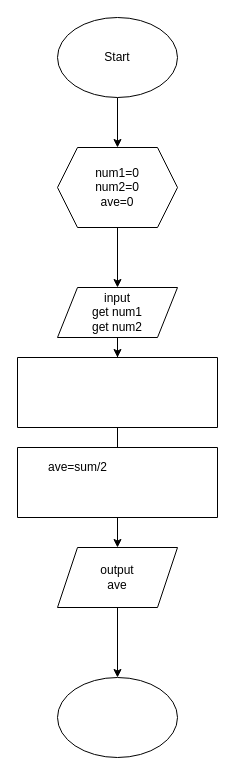
Some shapes in this 235 by 775 pixel diagram are drawn without their labels. Each missing label, with the box of its shape:
end: (56, 676, 178, 758)
sum = num 1 + sum2: (16, 356, 218, 428)
